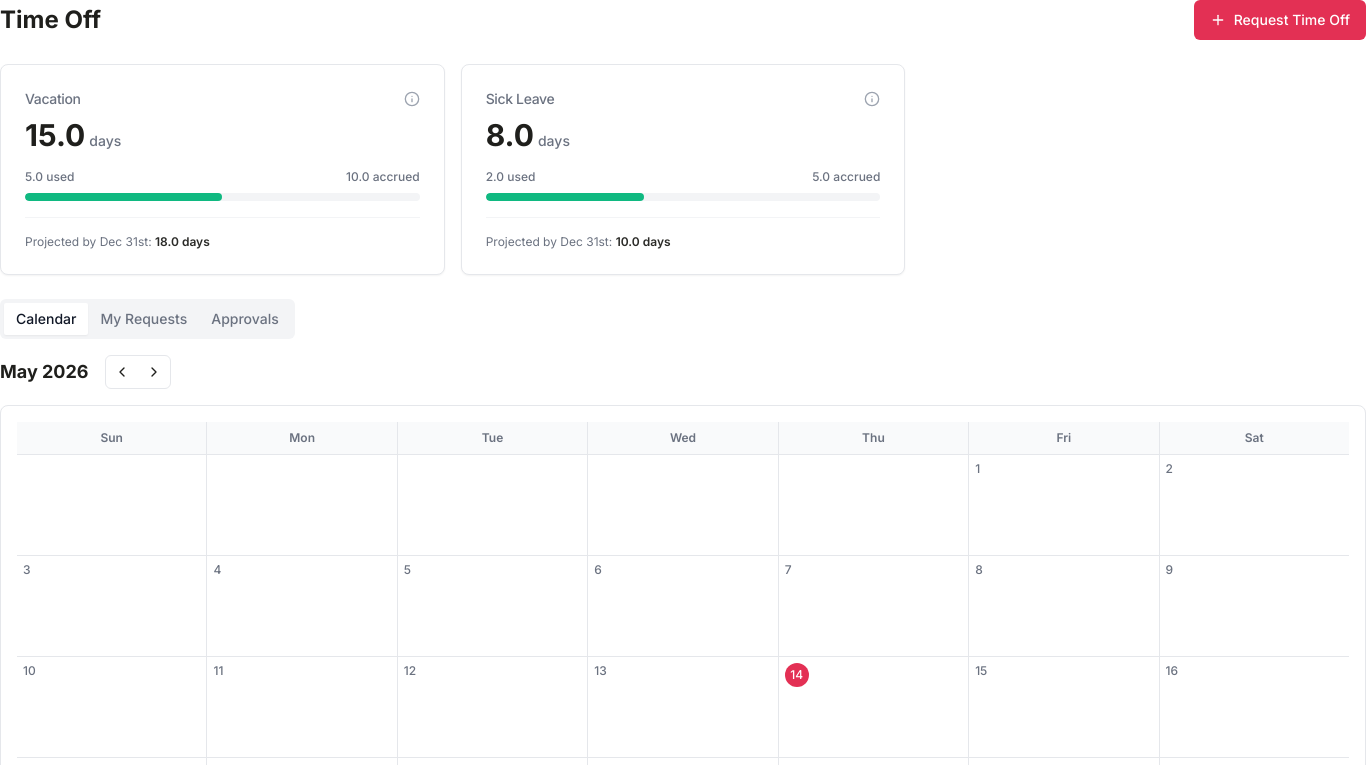
Test: TimeOffPage › opens request form modal when Request Time Off is clicked
Click the button "Request Time Off" at x=1280, y=20, box [1194,0,1365,40]
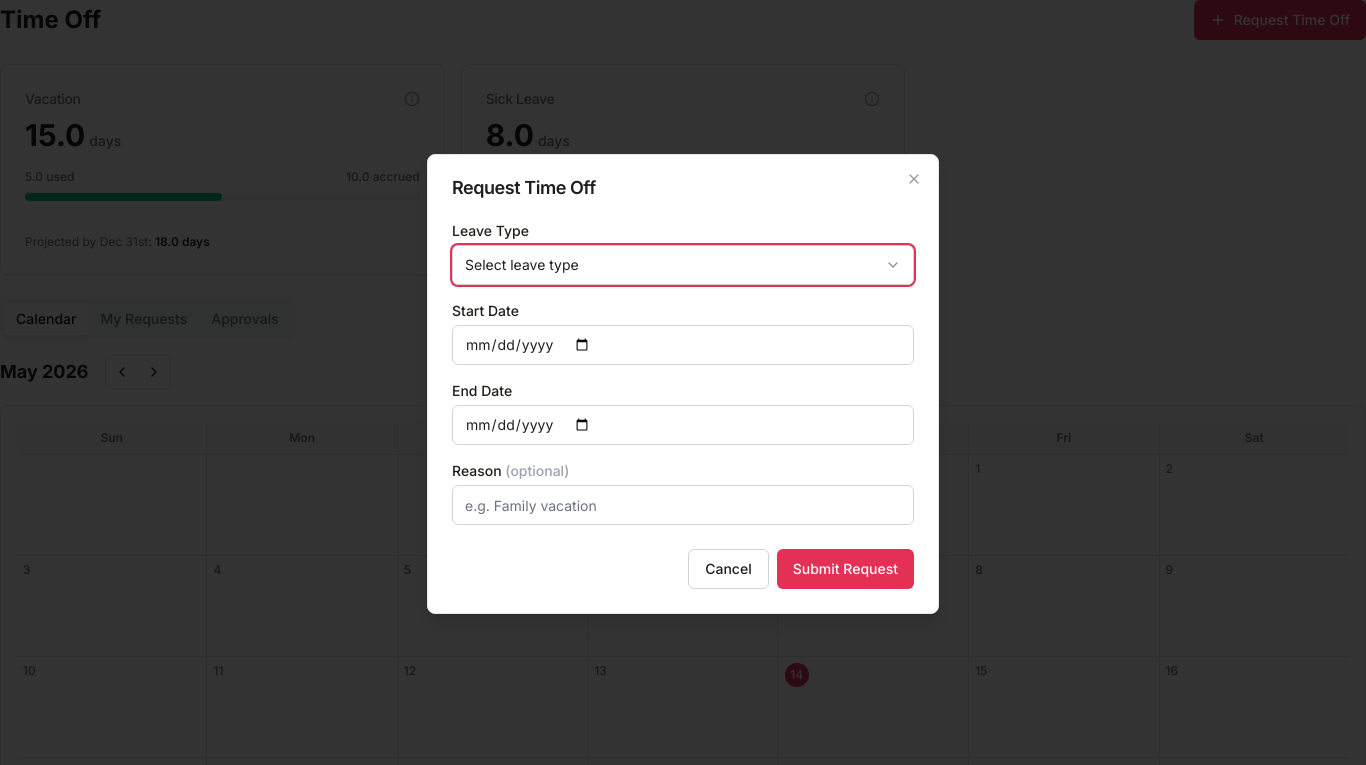
Check: the dialog is shown, box [427,154,939,614]
